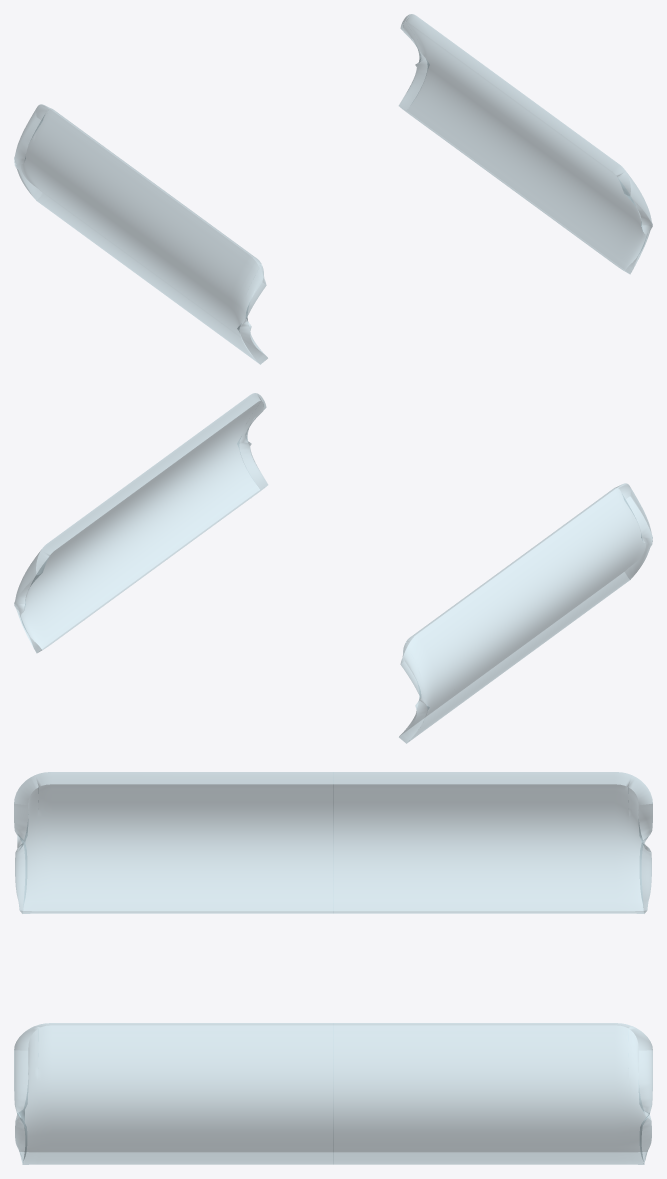
File: SM_GlassWall_Block_Curved.fbx
3 views of the same model, one above another, from view 1: azimuth 30°, elevation 25°; view 2: azimuth 150°, elevation 25°; view 3: azimuth 270°, elevation 25° (orthographic). The views are drawn at different scales.
Parts seen in each view (by area): view 1: SM_GlassWall_Block_Curved; view 2: SM_GlassWall_Block_Curved; view 3: SM_GlassWall_Block_Curved.
Boxes of the visible parts, x1=… form: SM_GlassWall_Block_Curved: x1=14, y1=14, x2=652, y2=364; SM_GlassWall_Block_Curved: x1=14, y1=393, x2=652, y2=743; SM_GlassWall_Block_Curved: x1=14, y1=772, x2=652, y2=1164.
Size of the model in its own units: 2.07 by 0.4867 by 1.98.
